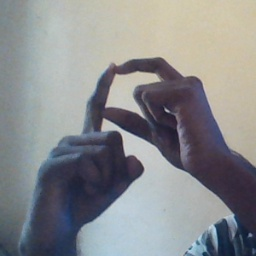D: (69, 50, 196, 168)
